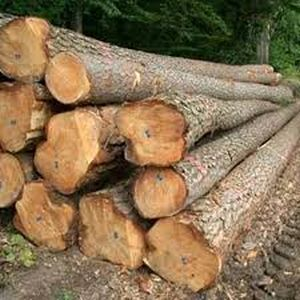log: (137, 214, 229, 299), (35, 108, 109, 197), (111, 99, 194, 170), (77, 193, 147, 272), (12, 179, 80, 254), (125, 162, 196, 221), (1, 14, 53, 86), (44, 47, 99, 110), (1, 80, 42, 153), (1, 153, 26, 209)
